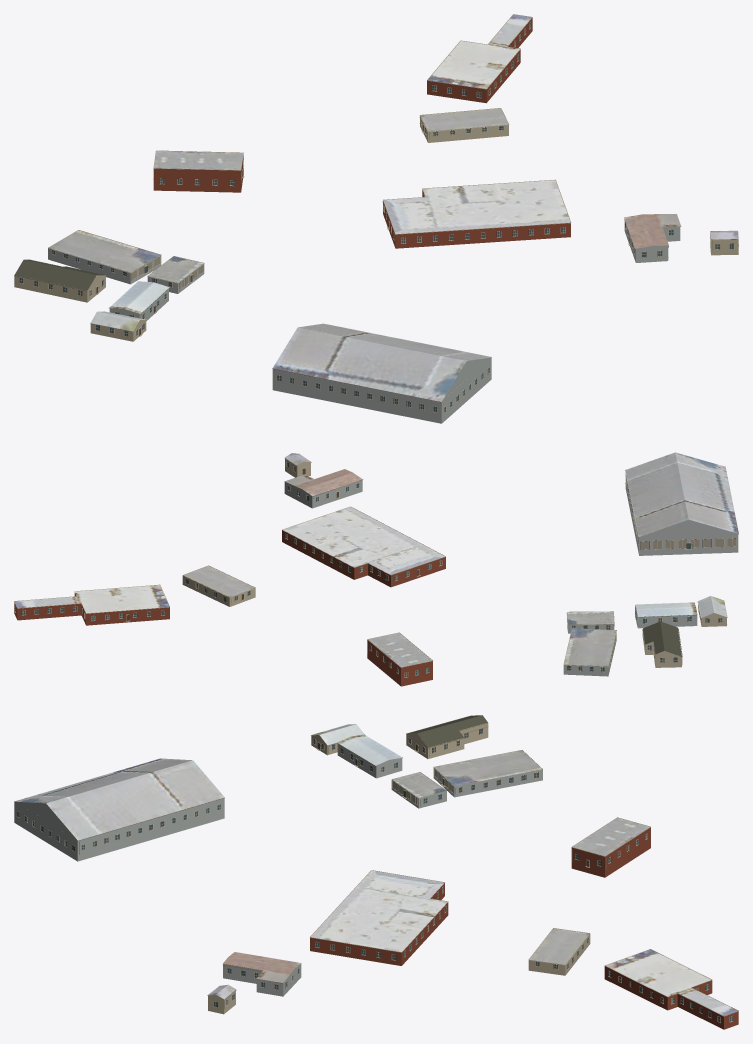
3 renders of one model, top to bottom at view 1: azimuth 30°, elevation 25°; view 2: azimuth 150°, elevation 25°; view 3: azimuth 270°, elevation 25°, orthographic. The views are drawn at different scales.
Parts seen in each view (by area): view 1: 2_-4_598630029_0, 2_-4_598631240_3, 2_-4_598630030_1, 2_-4_598631254_9; view 2: 2_-4_598630029_0, 2_-4_598631240_3, 2_-4_598630030_1, 2_-4_598631254_9; view 3: 2_-4_598630029_0, 2_-4_598631240_3, 2_-4_598630030_1, 2_-4_598631254_9.
Boxes of the visible parts, x1=… form: 2_-4_598630029_0: x1=14, y1=14, x2=738, y2=413; 2_-4_598631240_3: x1=48, y1=221, x2=680, y2=423; 2_-4_598630030_1: x1=14, y1=116, x2=738, y2=341; 2_-4_598631254_9: x1=14, y1=259, x2=105, y2=290; 2_-4_598630029_0: x1=14, y1=452, x2=738, y2=686; 2_-4_598631240_3: x1=284, y1=474, x2=738, y2=676; 2_-4_598630030_1: x1=182, y1=458, x2=726, y2=667; 2_-4_598631254_9: x1=643, y1=621, x2=681, y2=656; 2_-4_598630029_0: x1=14, y1=715, x2=738, y2=1029; 2_-4_598631240_3: x1=14, y1=744, x2=542, y2=996; 2_-4_598630030_1: x1=208, y1=722, x2=590, y2=1014; 2_-4_598631254_9: x1=408, y1=715, x2=487, y2=747.
Size of the model in its own units: 221 by 14.36 by 223.
Materials: 14 (1 with a texture image).
